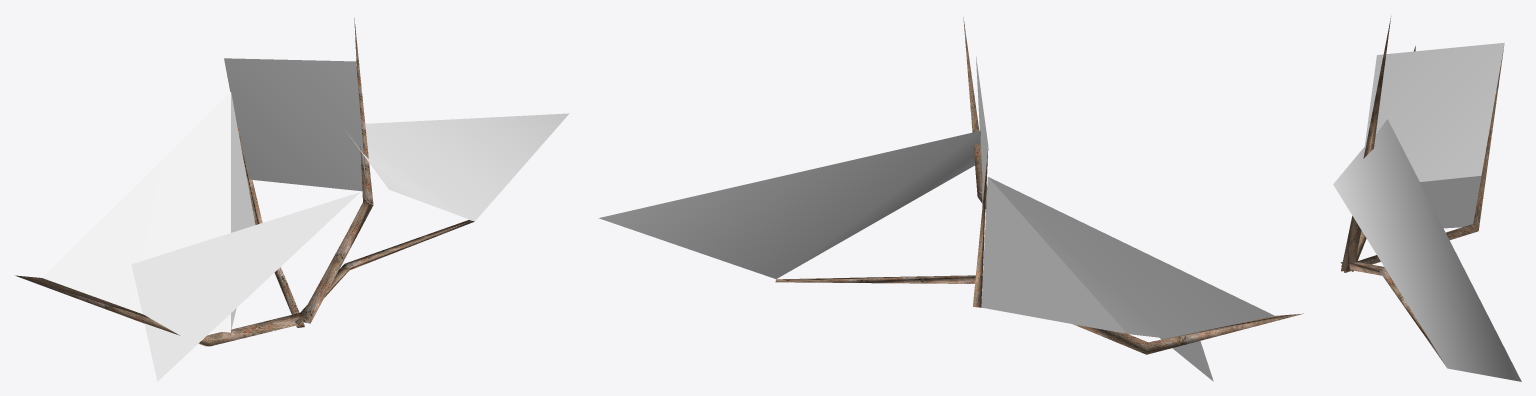
File: poi_lair_web_s01_l1.fbx
The picture shows the model from 3 angles, left to right: view 1: azimuth 30°, elevation 25°; view 2: azimuth 150°, elevation 25°; view 3: azimuth 270°, elevation 25°; orthographic projection. The views are drawn at different scales.
Parts seen in each view (by area): view 1: mesh_node; view 2: mesh_node; view 3: mesh_node.
Part boxes in pixels (left/top/right/bottom): mesh_node: left=15, top=17, right=569, bottom=381; mesh_node: left=598, top=17, right=1303, bottom=381; mesh_node: left=1333, top=16, right=1521, bottom=381.
Bounding box in the file's own units: 1.83 × 0.8729 × 0.4665.
